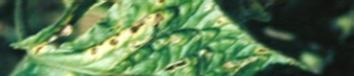Tomato Septoria leaf spot: (0, 0, 351, 76)
